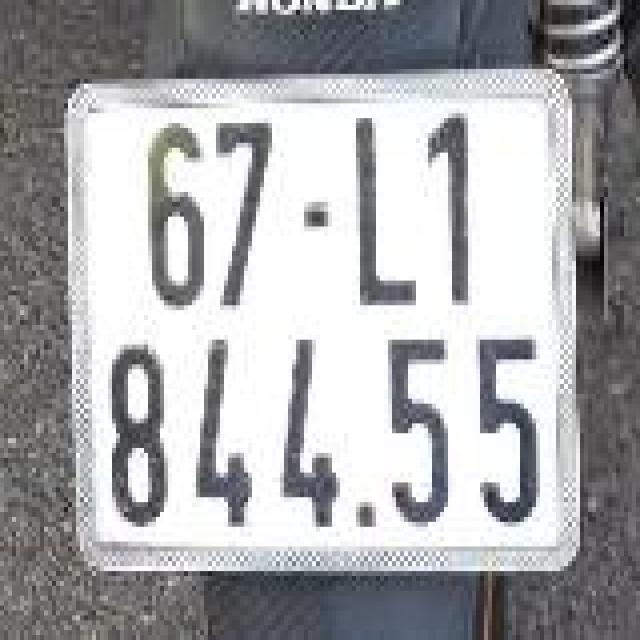1: (428, 113, 484, 310)
4: (190, 327, 262, 544), (274, 329, 346, 536)
5: (468, 330, 556, 532), (372, 329, 452, 536)
6: (132, 113, 208, 315)
7: (210, 110, 278, 312)
8: (102, 339, 174, 536)
L: (336, 105, 424, 312)
